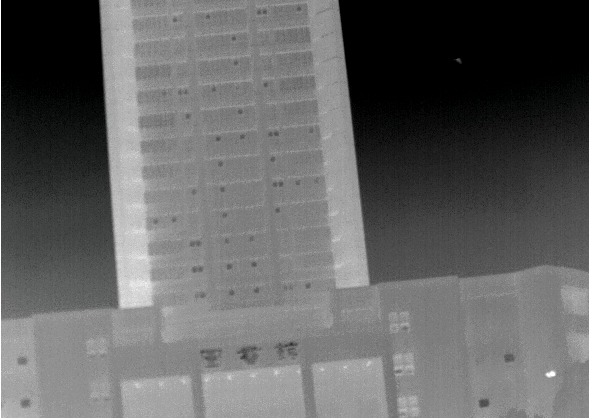dim target: (455, 58, 461, 63)
